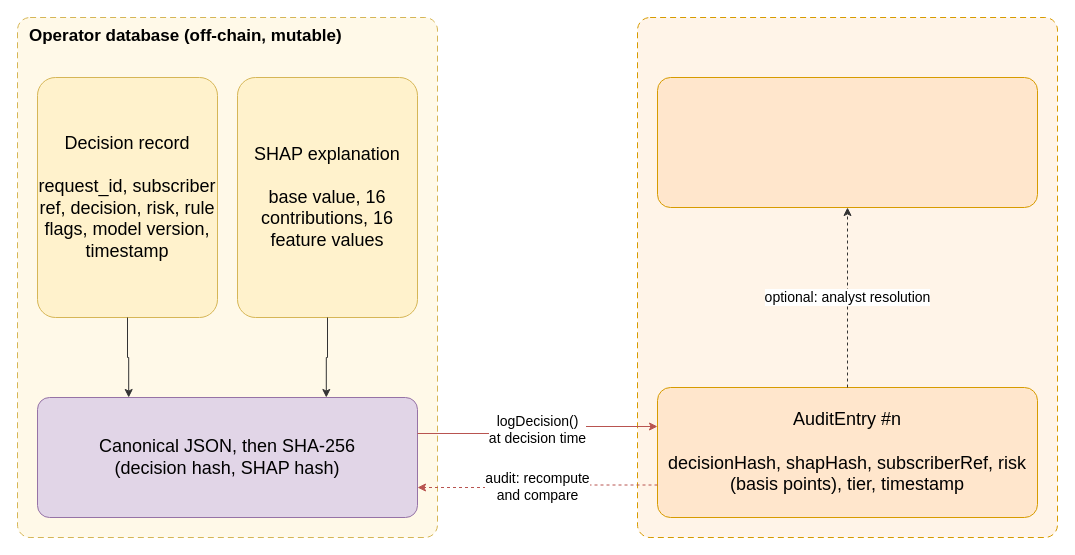
Image size: 1075x555. Some labels were removed from this diagram. The box of each missing label's shape, as (x1, y1, x2, y2) in pixels:
Resolution (optional, separate record) final tier, analyst reference, note hash: (656, 76, 1038, 208)
Smart contract (on-chain, append-only): (636, 16, 1058, 538)
